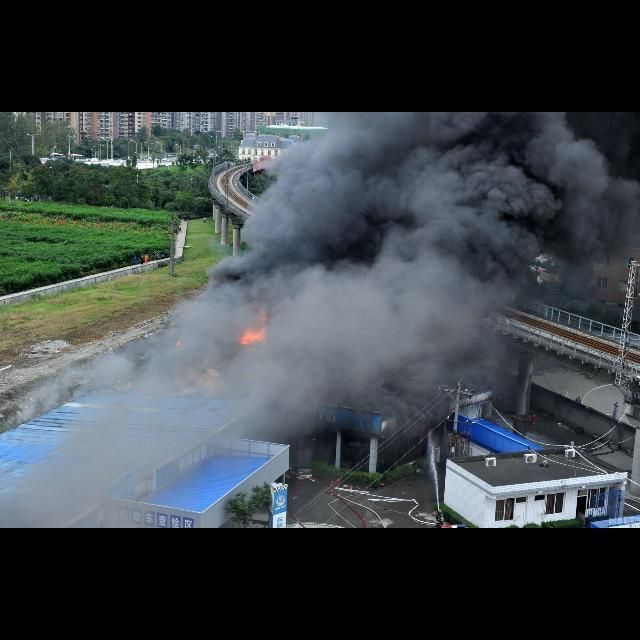Fire: (238, 310, 266, 346)
Smoke: (1, 112, 640, 528)
